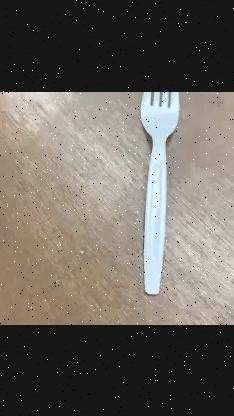Others: (140, 92, 180, 294)
